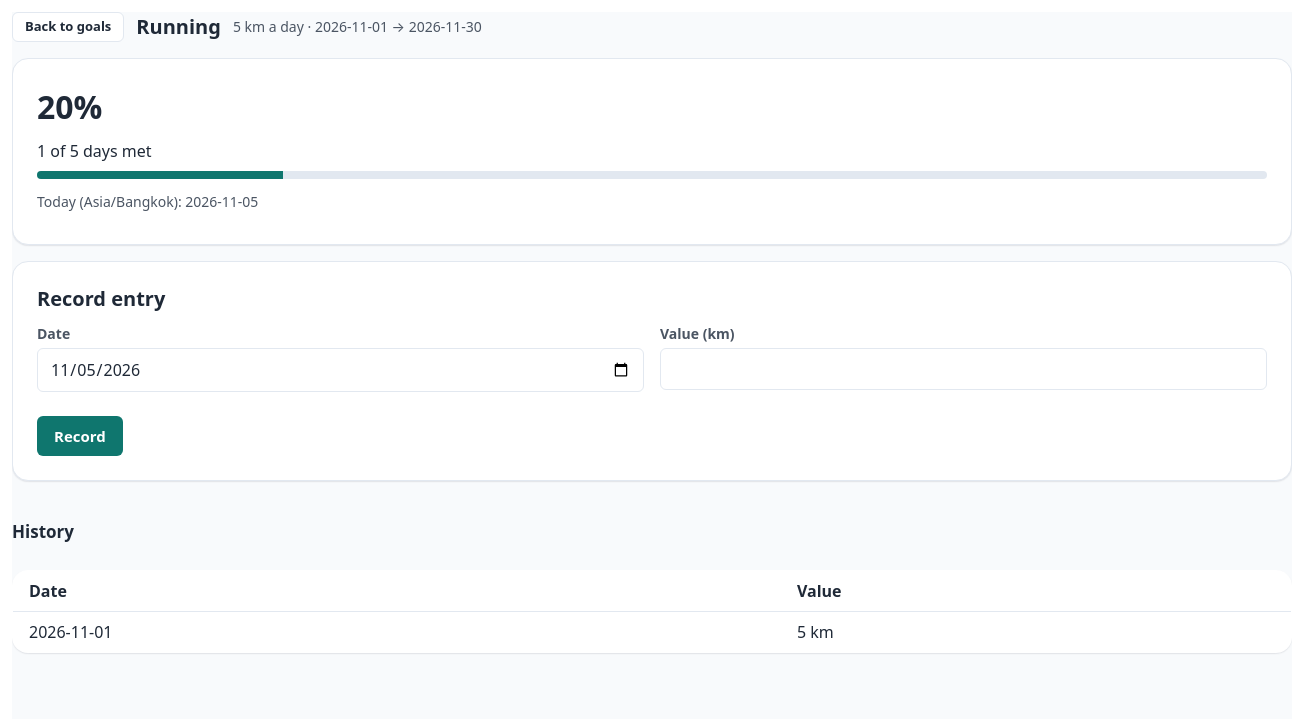
Test: AC-04.20 record flow › TEST-04.20c a saved entry stays saved when only the progress refresh fails
Check: the text "1 of 5 days met" is shown, box [37,140,152,162]
Type "2026-11-03" into the date field labelled "Date" at (340, 370), box [37,348,644,392]
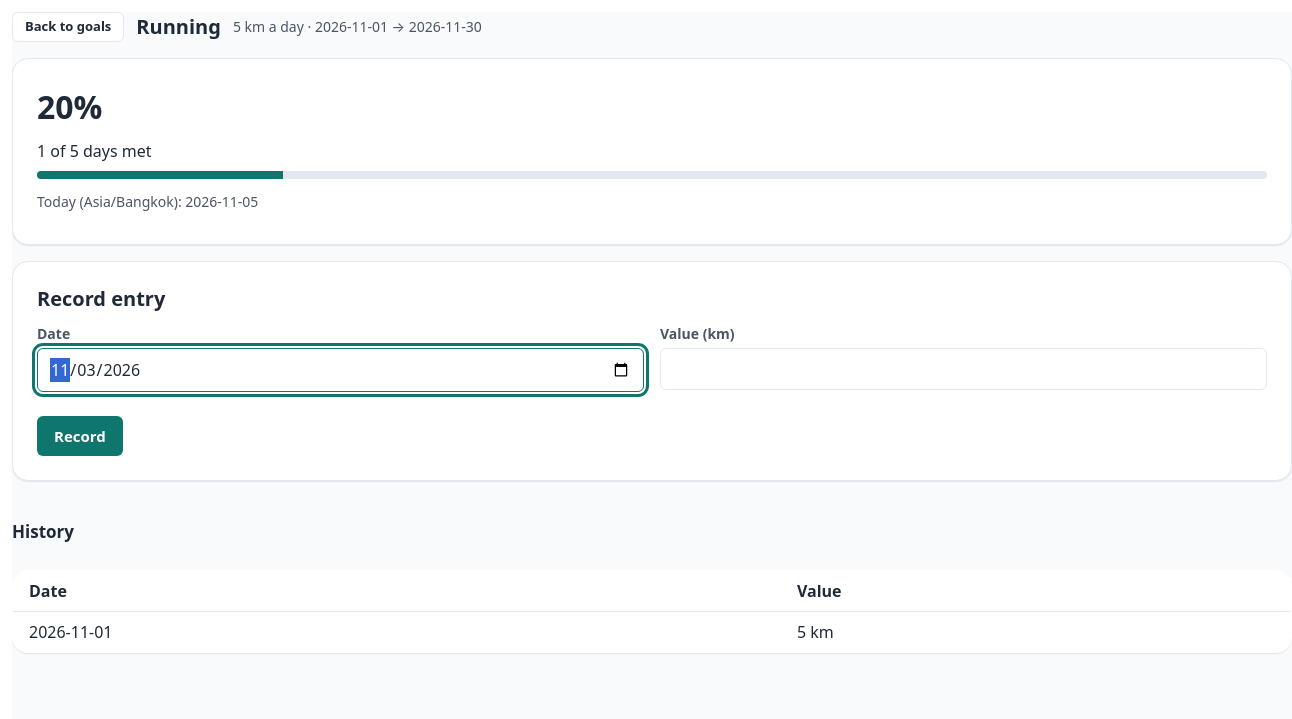
Type "7.25" into the number field labelled "Value (km)" at (964, 368), box [660,348,1267,390]
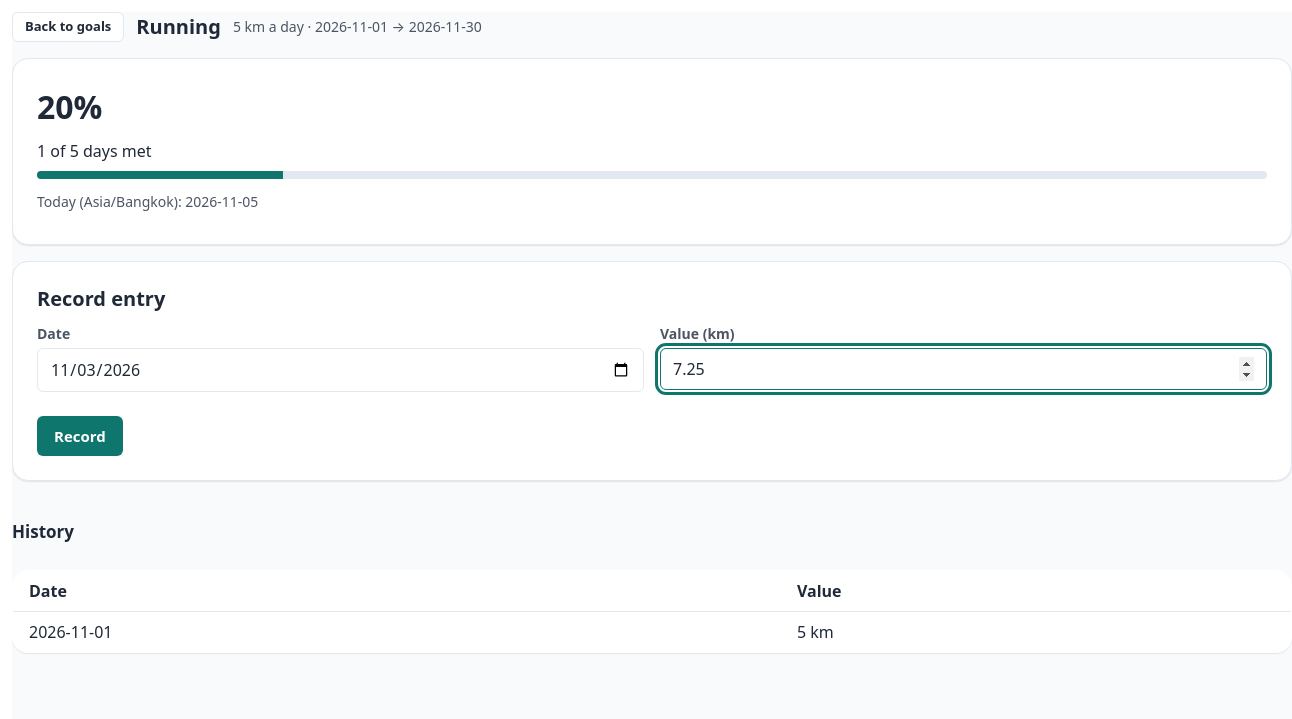
Click the button "Record" at (80, 436), box [37,416,123,456]
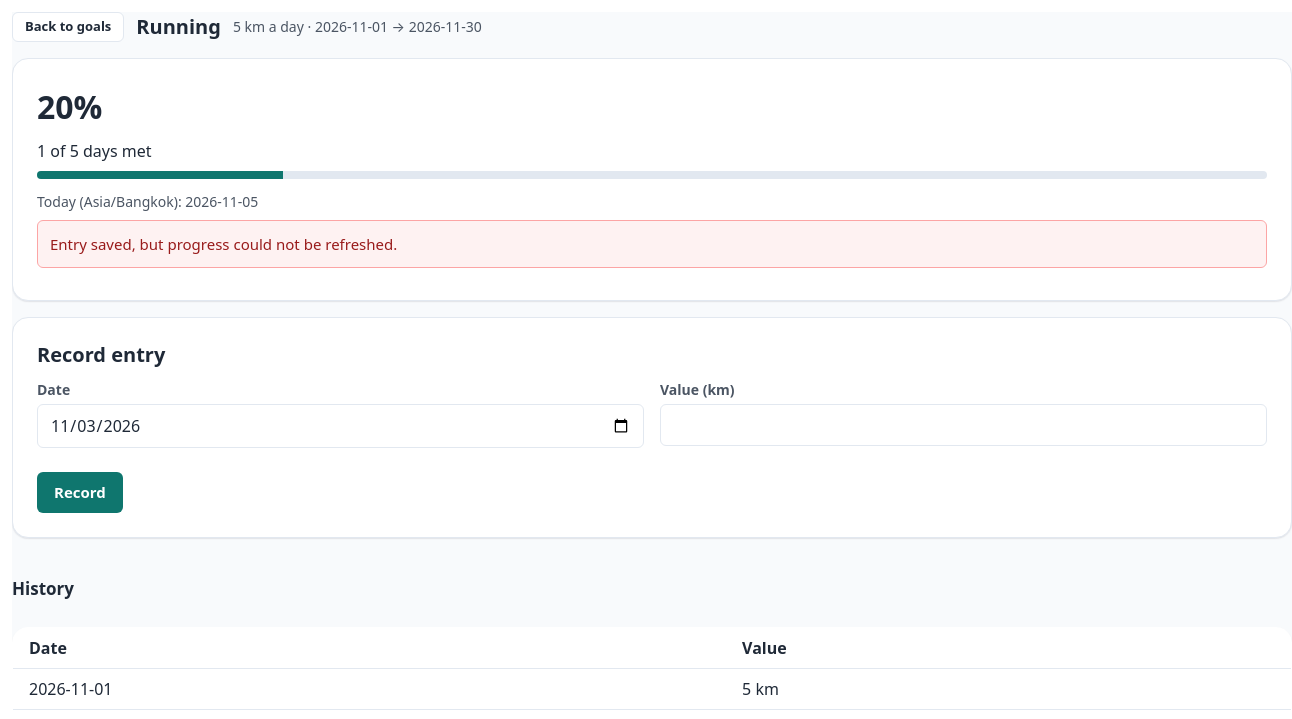
Check: the text "Entry saved, but progress could not be refreshed." is shown, box [37,220,1267,268]
Check: the number field labelled "Value (km)" is not empty, box [660,404,1267,446]
